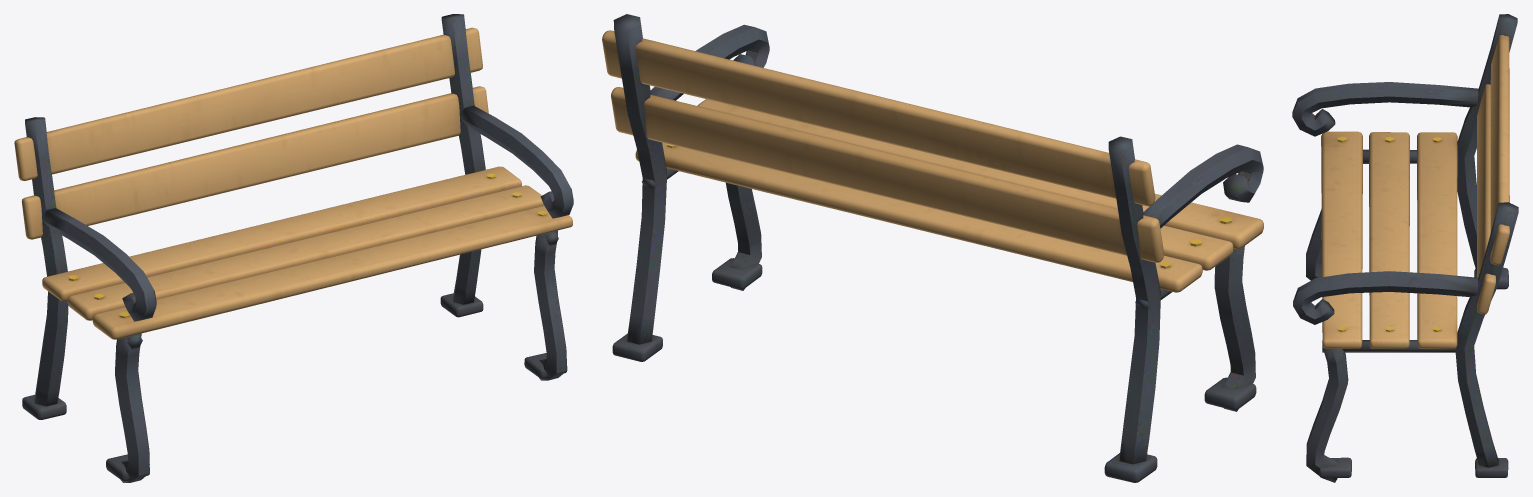
File: bench.glb
3 views of the same model, side by side, from view 1: azimuth 30°, elevation 25°; view 2: azimuth 150°, elevation 25°; view 3: azimuth 270°, elevation 25° (orthographic). The views are drawn at different scales.
Visible parts, largest first — view 1: bench; view 2: bench; view 3: bench.
Part boxes in pixels (x1,y1,x2,y2): bench: (14,14,573,482); bench: (602,14,1263,482); bench: (1292,14,1518,482).
Bounding box in the file's own units: 1.46 × 0.8959 × 0.6672.
Materials: 3 (3 with a texture image).
